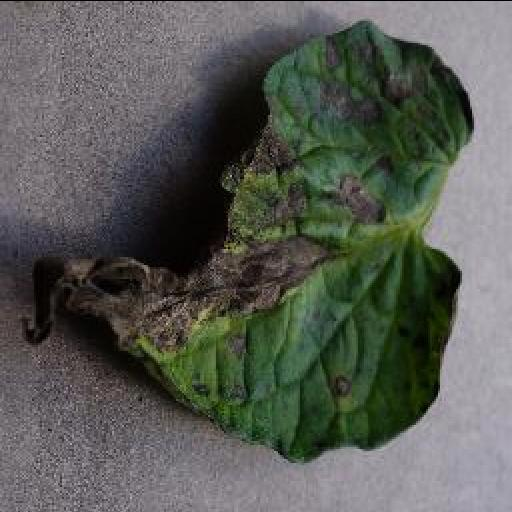disease_tomato: (15, 22, 477, 468)
